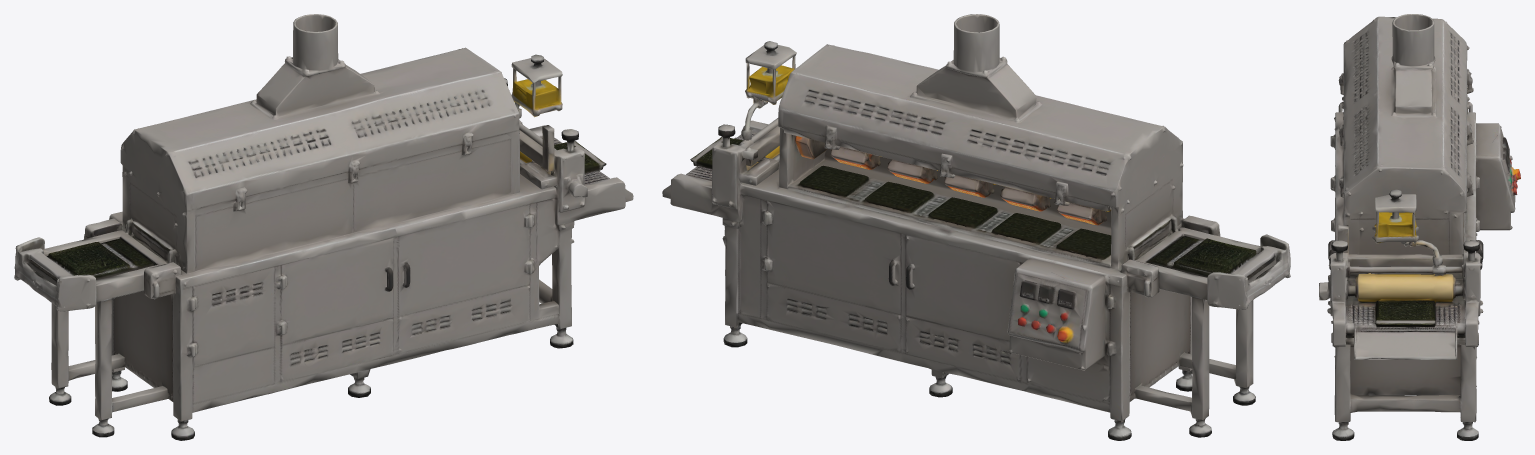
The model's file is secondary-roaster.glb.
3 views of the same model, side by side, from view 1: azimuth 30°, elevation 25°; view 2: azimuth 150°, elevation 25°; view 3: azimuth 270°, elevation 25° (orthographic). The views are drawn at different scales.
Visible parts, largest first — view 1: tripo_node_e47a42f6-efdd-485d-b14e-07733d5338f1; view 2: tripo_node_e47a42f6-efdd-485d-b14e-07733d5338f1; view 3: tripo_node_e47a42f6-efdd-485d-b14e-07733d5338f1.
Boxes of the visible parts, x1,y1,x2,y2 form: tripo_node_e47a42f6-efdd-485d-b14e-07733d5338f1: [14, 14, 633, 440]; tripo_node_e47a42f6-efdd-485d-b14e-07733d5338f1: [662, 14, 1290, 440]; tripo_node_e47a42f6-efdd-485d-b14e-07733d5338f1: [1319, 14, 1520, 440].
Size of the model in its own units: 1 by 0.5751 by 0.3288.
Materials: 1 (1 with a texture image).
